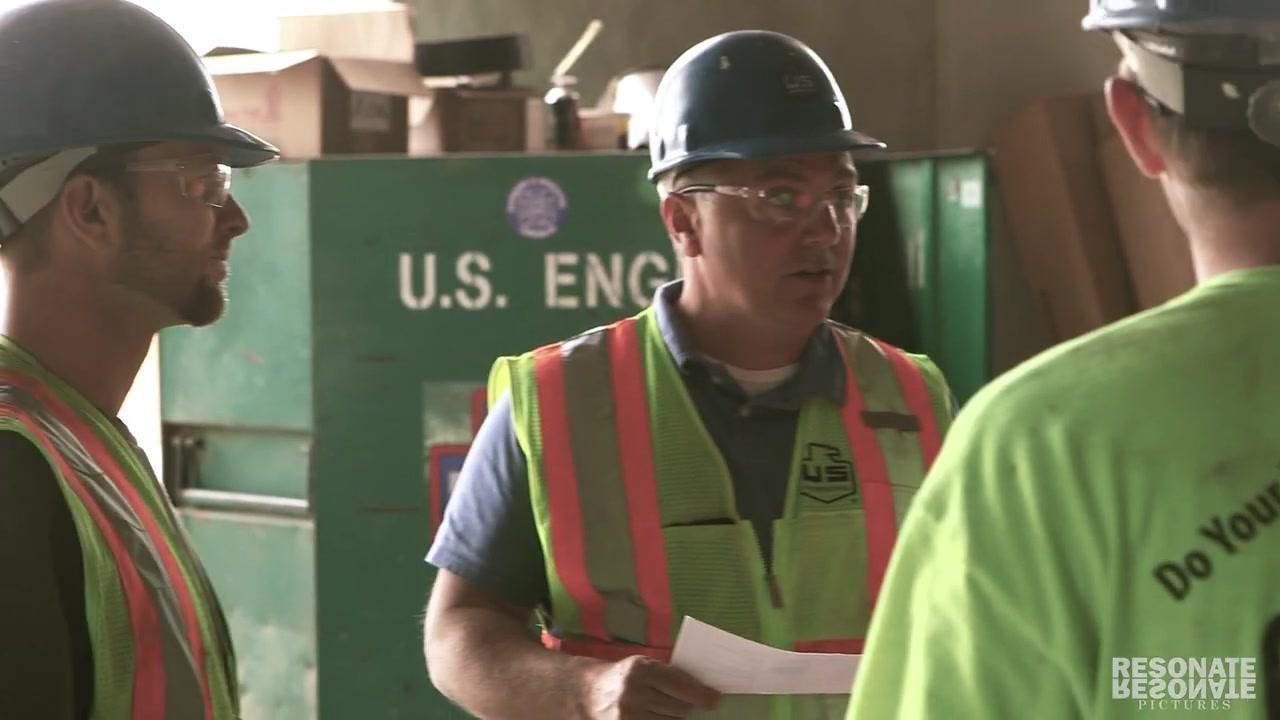vest: (485, 309, 965, 718), (0, 335, 247, 717)
